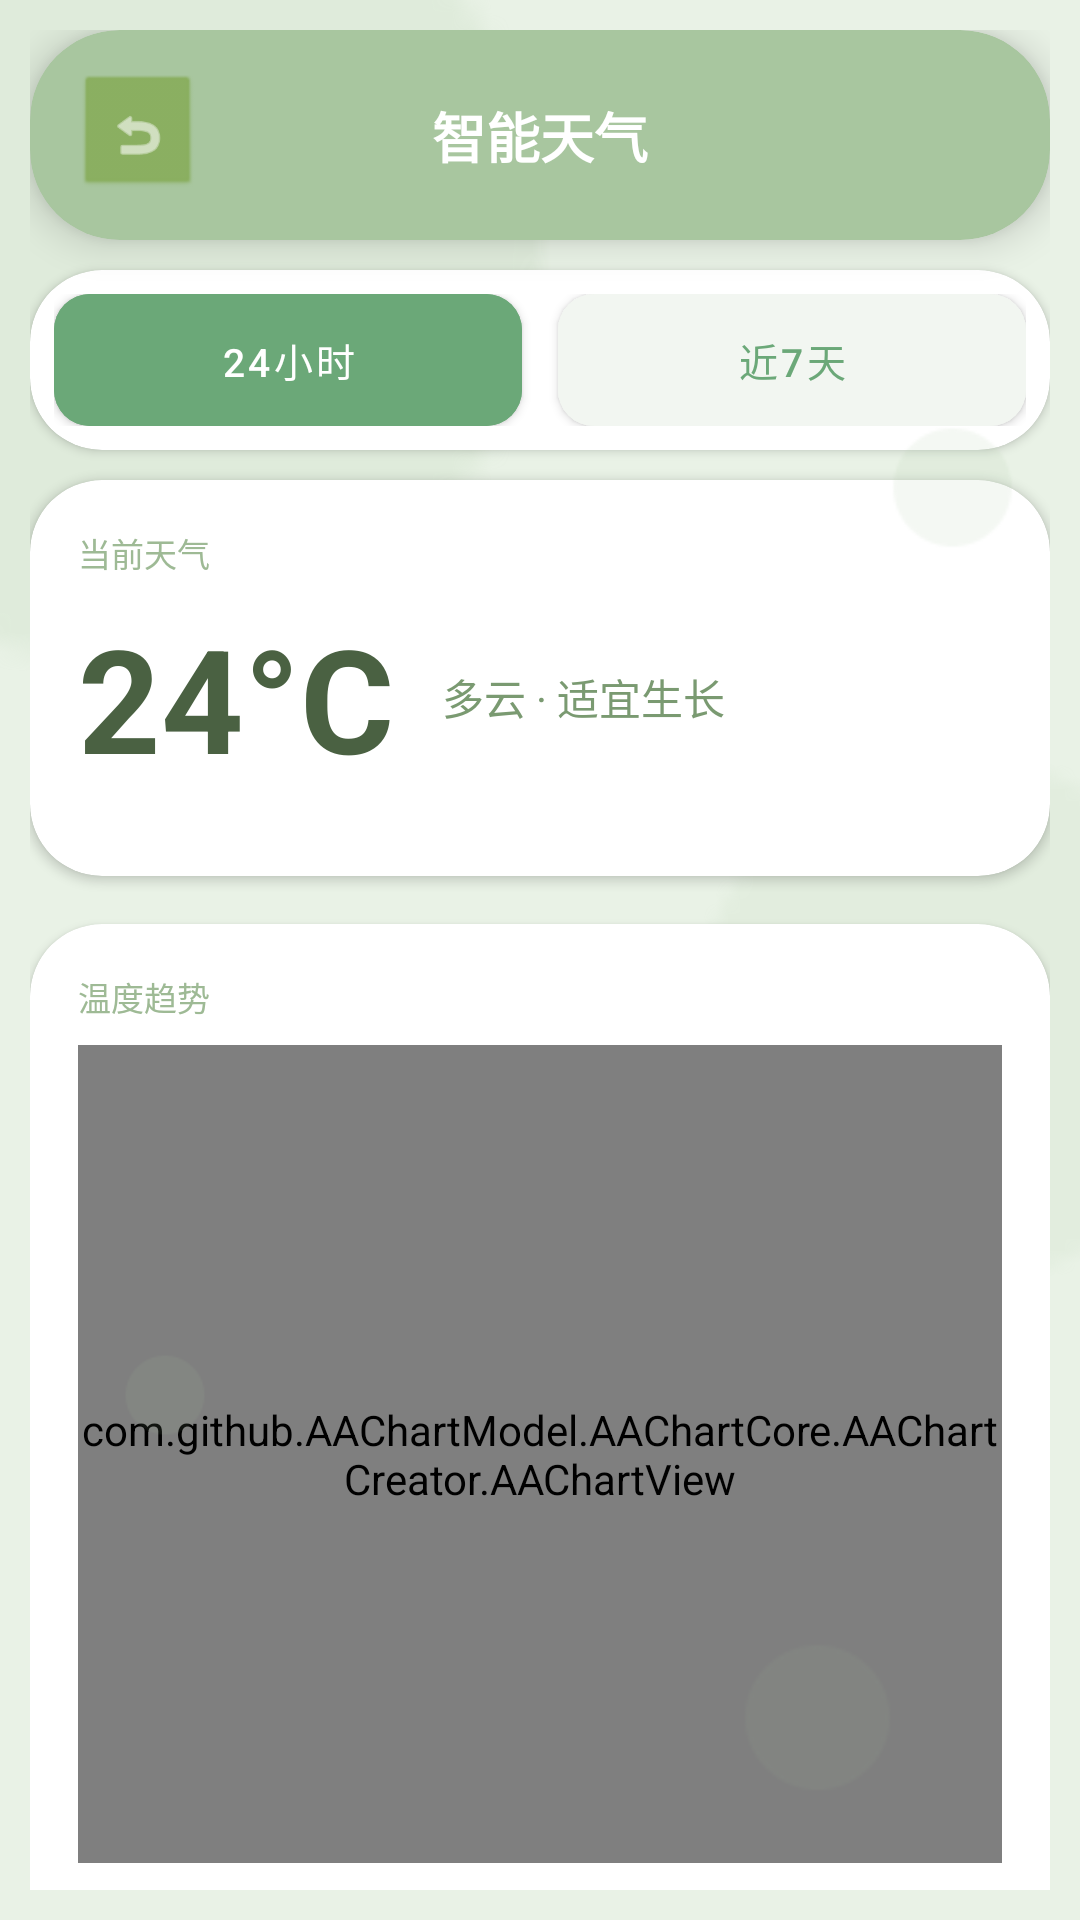

Icons on this 1080×1920 Android screen, each with its box as {"x1": x1, "y1": y1, "x2": x2, "y2": y2}:
revert: {"x1": 84, "y1": 76, "x2": 191, "y2": 183}
